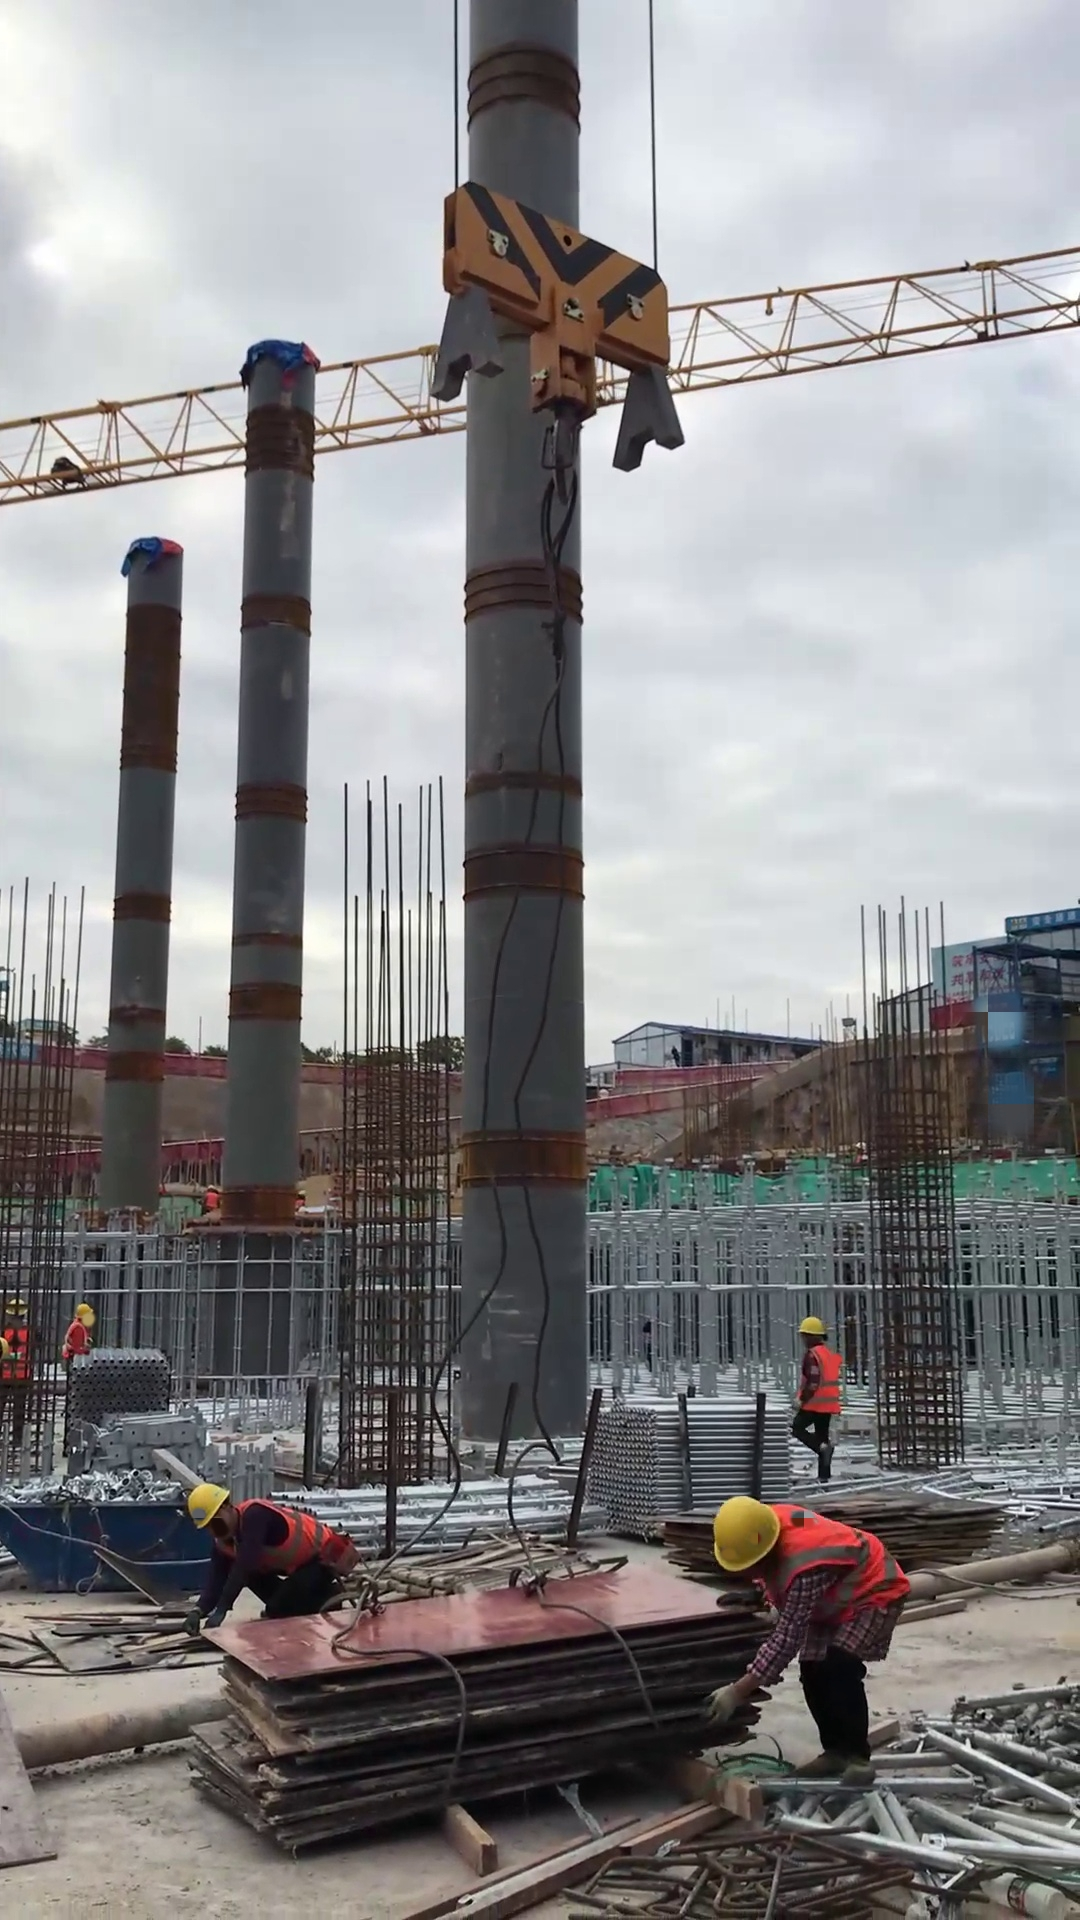helmet: (706, 1494, 784, 1573), (184, 1481, 232, 1532), (794, 1314, 829, 1339), (5, 1296, 32, 1320), (72, 1302, 95, 1322), (1, 1334, 12, 1363), (206, 1181, 216, 1191), (298, 1188, 308, 1197)
person: (702, 1494, 914, 1780), (180, 1480, 358, 1638), (789, 1314, 845, 1494), (1, 1295, 40, 1452), (58, 1301, 99, 1371), (196, 1181, 222, 1214)
vest: (768, 1502, 911, 1627), (238, 1500, 338, 1581), (794, 1342, 845, 1414), (1, 1325, 38, 1382), (62, 1318, 90, 1360), (203, 1191, 220, 1211)
